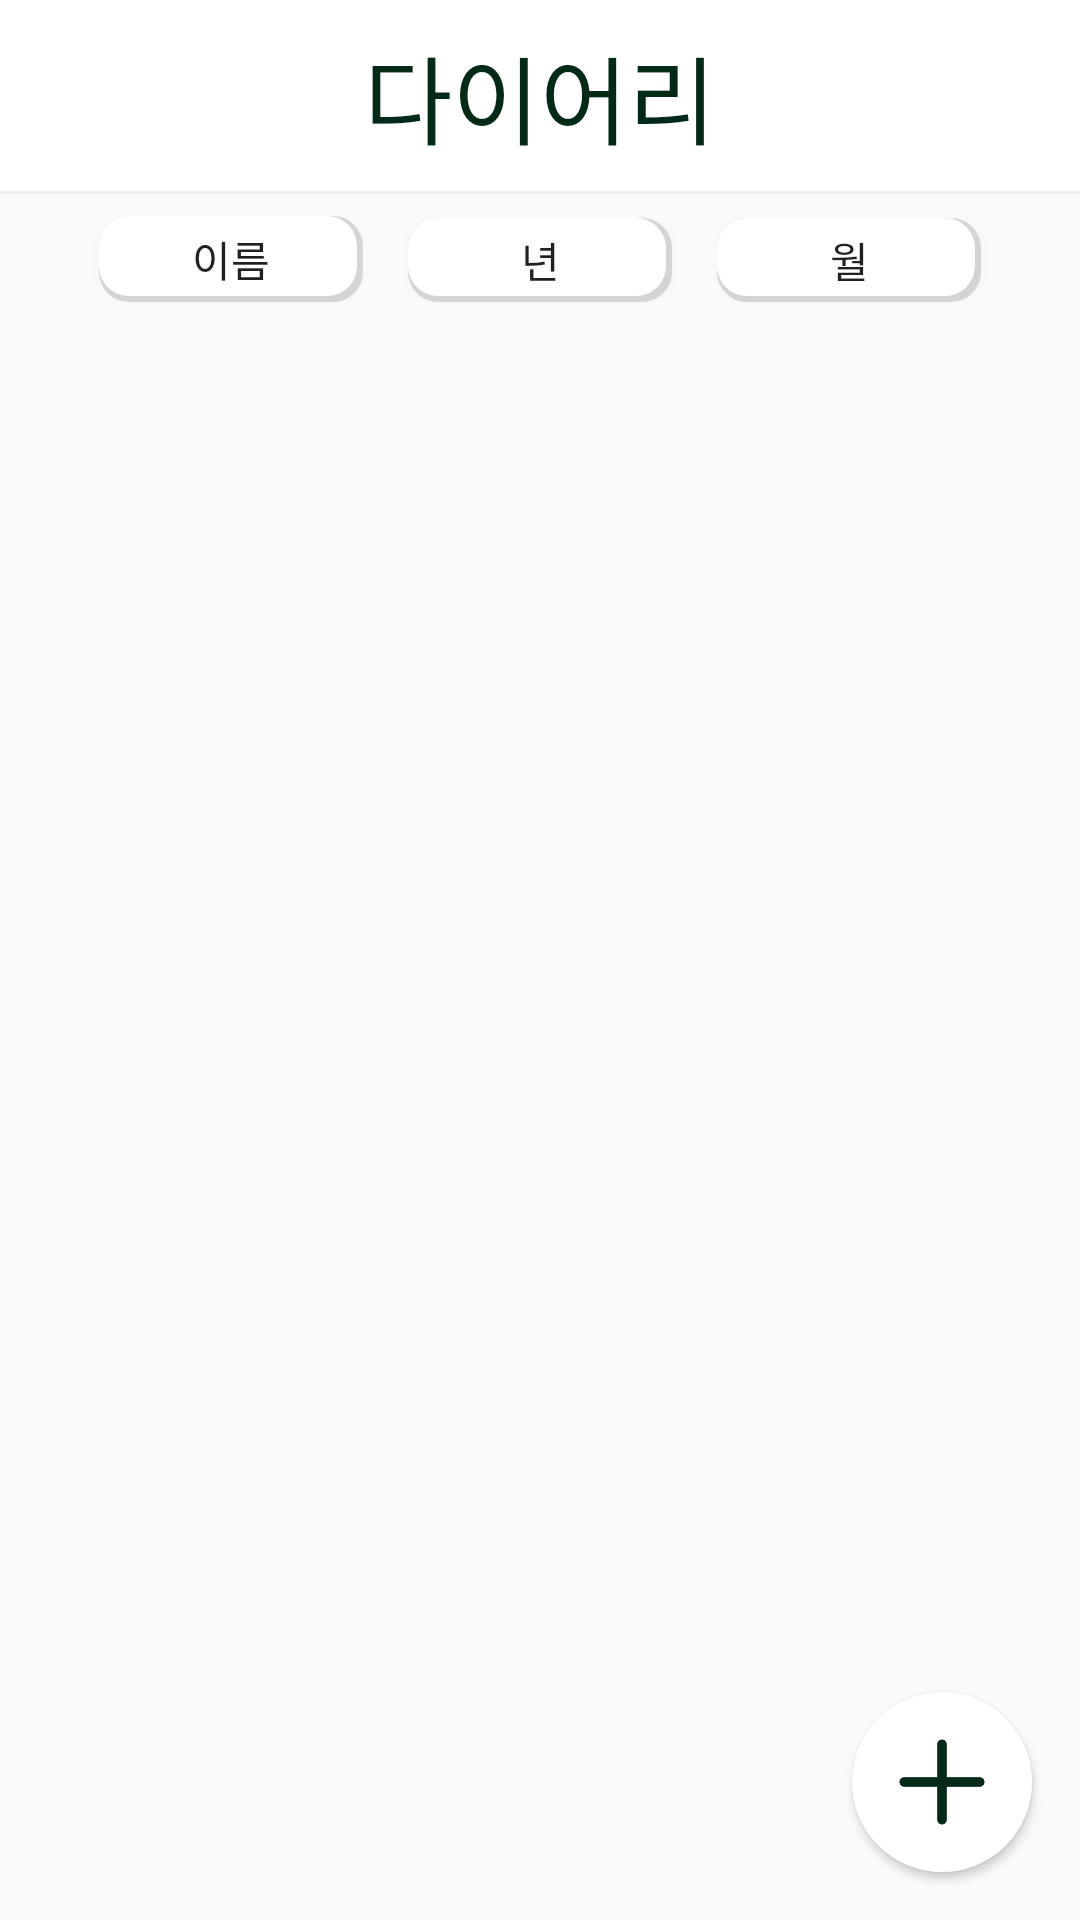

Where icons sit on this 1080px×1920px app screen, as (x1, y1, x2, y2):
diary plus: (855, 1739, 1032, 1825)
